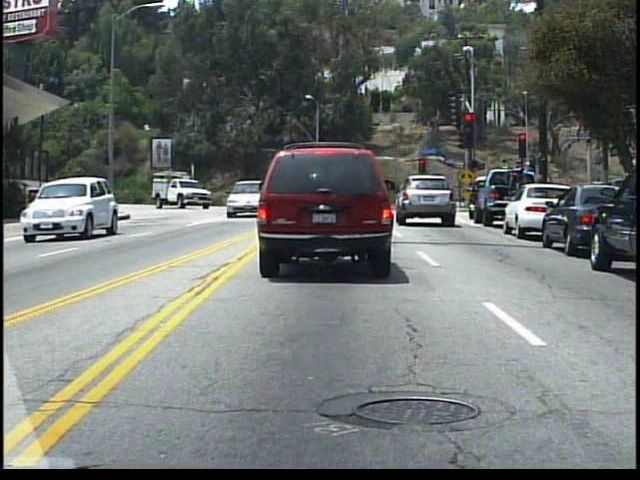person: (447, 180, 459, 209)
